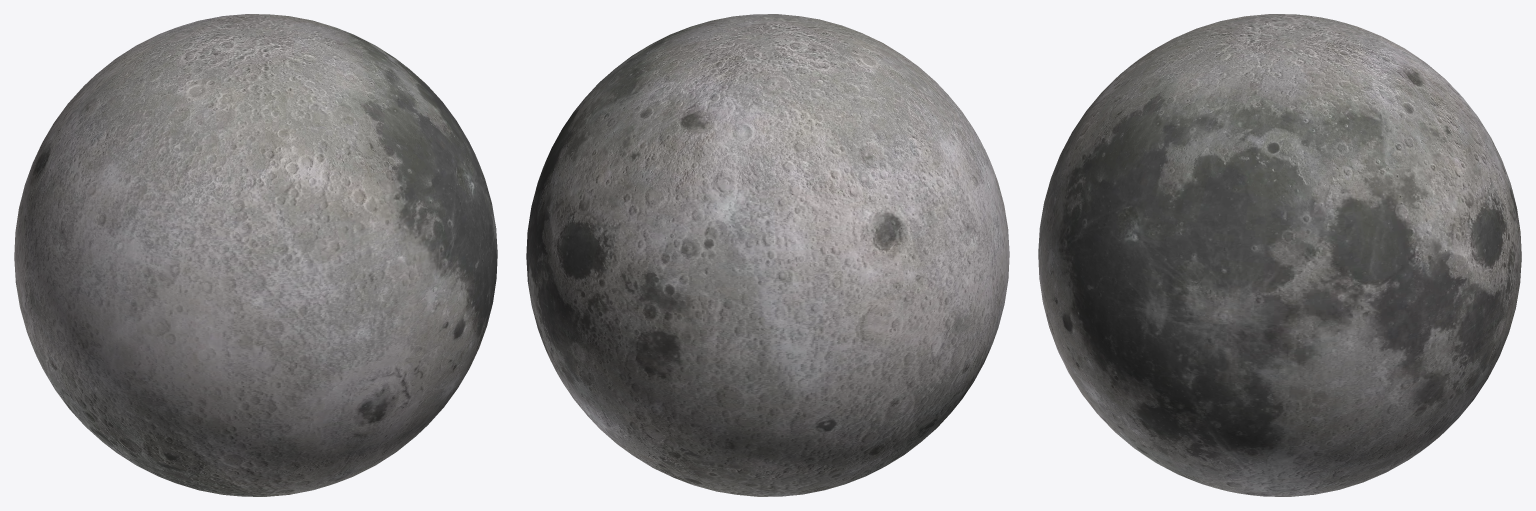
The model's file is bulan.glb.
The picture shows the model from 3 angles, left to right: view 1: azimuth 30°, elevation 25°; view 2: azimuth 150°, elevation 25°; view 3: azimuth 270°, elevation 25°; orthographic projection.
Visible parts, largest first — view 1: core; view 2: core; view 3: core.
Part boxes in pixels (<box>): core: <box>14,14,497,496</box>; core: <box>526,14,1009,496</box>; core: <box>1038,14,1521,496</box>.
Size of the model in its own units: 2 by 2 by 2.
1 material, 1 textured.
